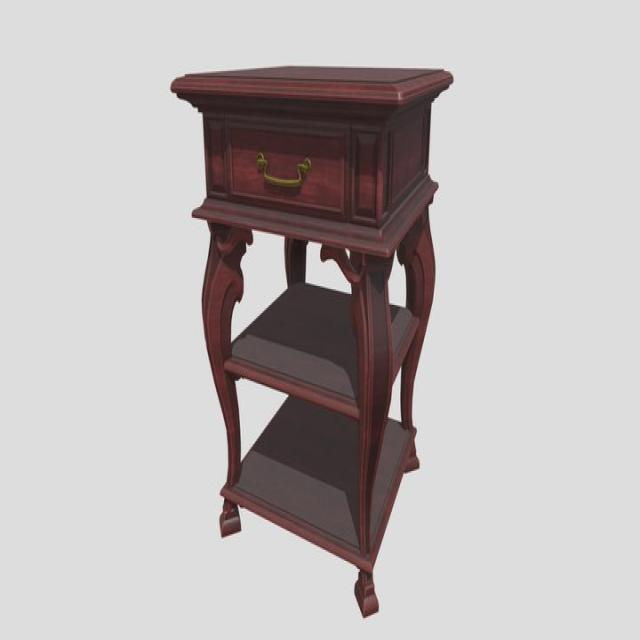table: (170, 65, 453, 620)
